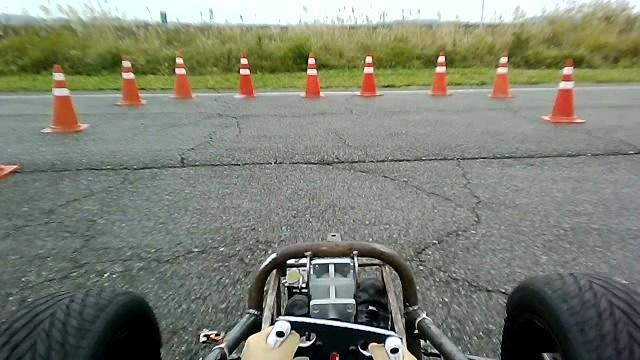red cone: (40, 63, 89, 133), (541, 58, 586, 123), (112, 54, 146, 105), (354, 52, 383, 97), (488, 50, 514, 97), (168, 52, 193, 99), (300, 51, 325, 98), (428, 50, 453, 96), (234, 51, 256, 98)
